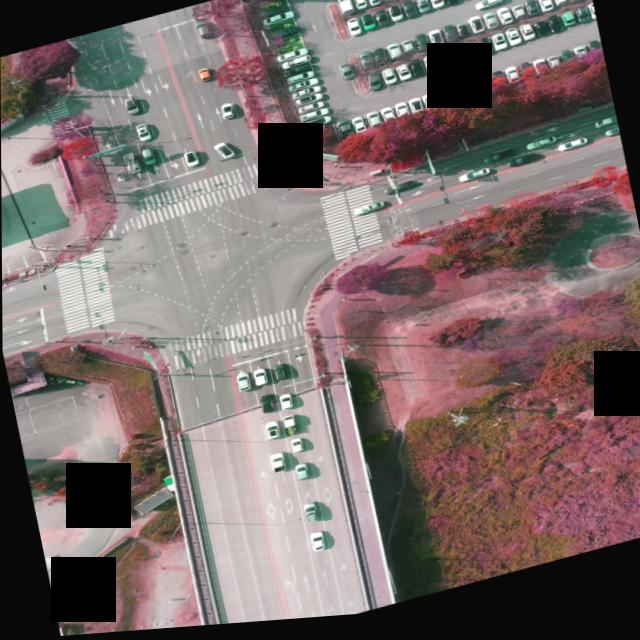car: (473, 0, 509, 18), (334, 0, 358, 26)
small_truck: (121, 151, 142, 179), (279, 416, 301, 442)
